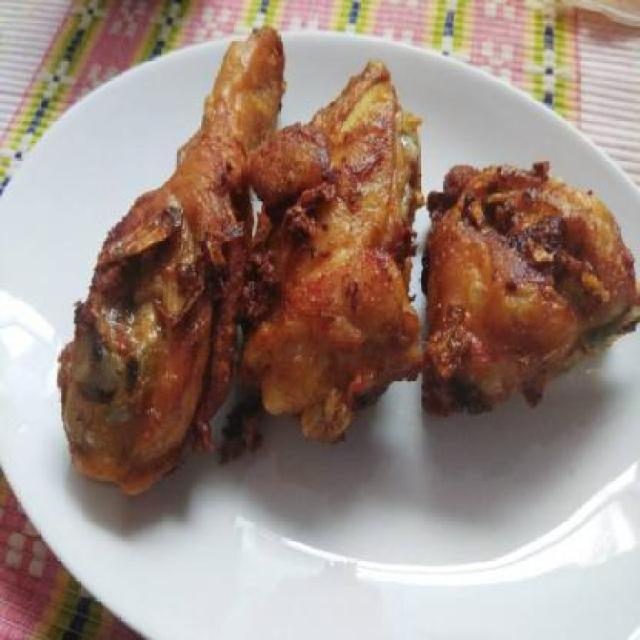Wet Waste: (61, 25, 288, 500), (209, 61, 422, 462), (424, 164, 640, 424)
